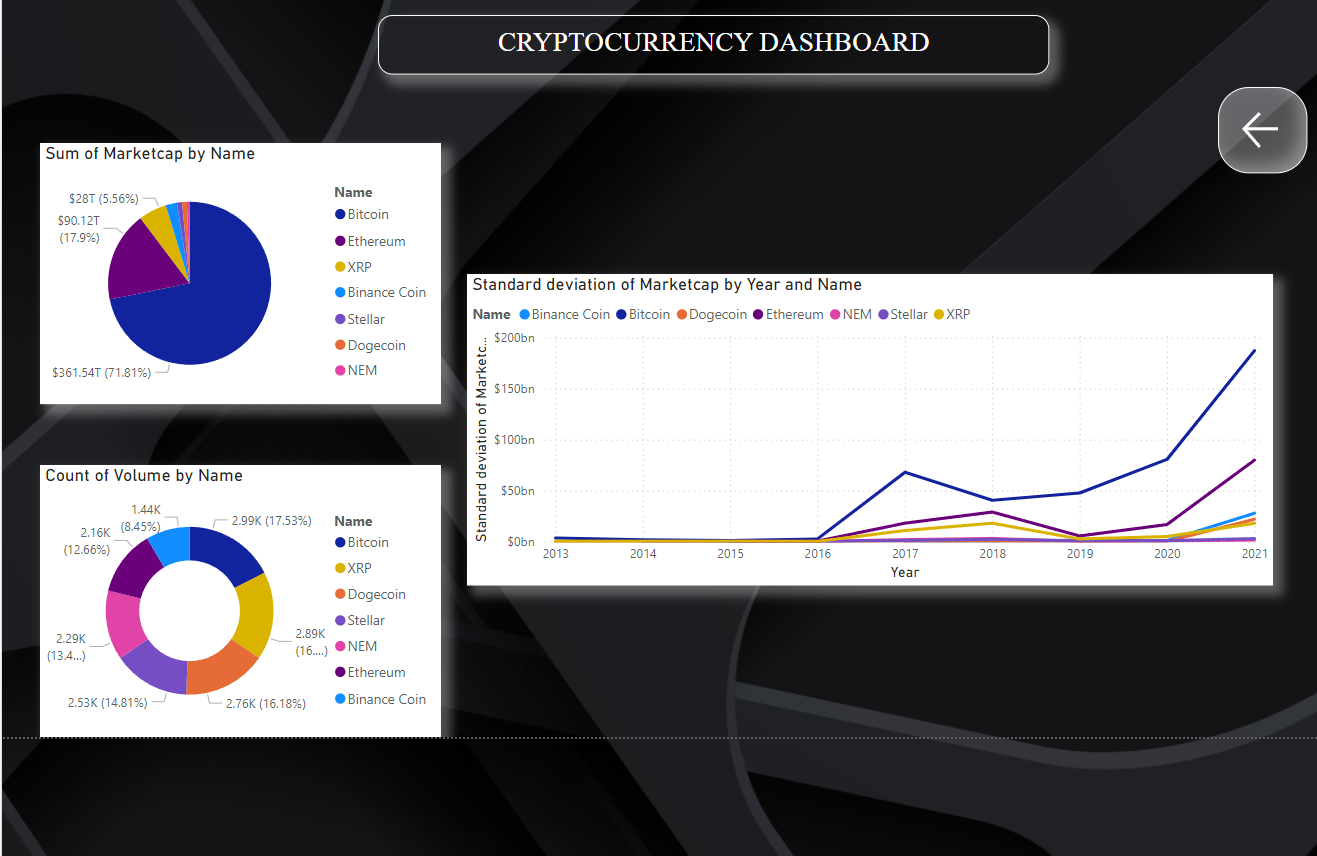

What the dashboard file says about the page in this screenshot:
{"tool":"powerbi","page":{"name":"page 2","canvas":[1280,720],"ordinal":1},"visuals":[{"type":"actionButton","box":[1182.7,87.5,86.6,83.6],"z":0},{"type":"textbox","box":[365.7,18,653.5,58],"z":1000},{"type":"pieChart","fields":{"Category":["pwerbi1.Name"],"Y":["Sum(pwerbi1.Marketcap)"]},"box":[37,142,390,253.9],"z":2000},{"type":"donutChart","fields":{"Category":["pwerbi1.Name"],"Y":["CountNonNull(pwerbi1.Volume)"]},"box":[37,455.2,390,264.6],"z":2001},{"type":"lineChart","fields":{"Y":["Sum(pwerbi1.Marketcap)"],"Series":["pwerbi1.Name"],"Category":["pwerbi1.Date.Variation.Date Hierarchy.Year"]},"box":[452.3,269.4,784,303.5],"z":2002}]}

Visuals, with their boxes on the page's 1280x720 design canvas (x1, y1, x2, y2). These are canvas units, not pixel positions in the 1317x856 screenshot, which may show the page scaled, cropped or inside an application window:
actionButton: bbox=[1183, 88, 1269, 171]
textbox: bbox=[366, 18, 1019, 76]
pieChart - pwerbi1.Name x Sum(pwerbi1.Marketcap): bbox=[37, 142, 427, 396]
donutChart - pwerbi1.Name x CountNonNull(pwerbi1.Volume): bbox=[37, 455, 427, 720]
lineChart - Sum(pwerbi1.Marketcap) x pwerbi1.Name: bbox=[452, 269, 1236, 573]
